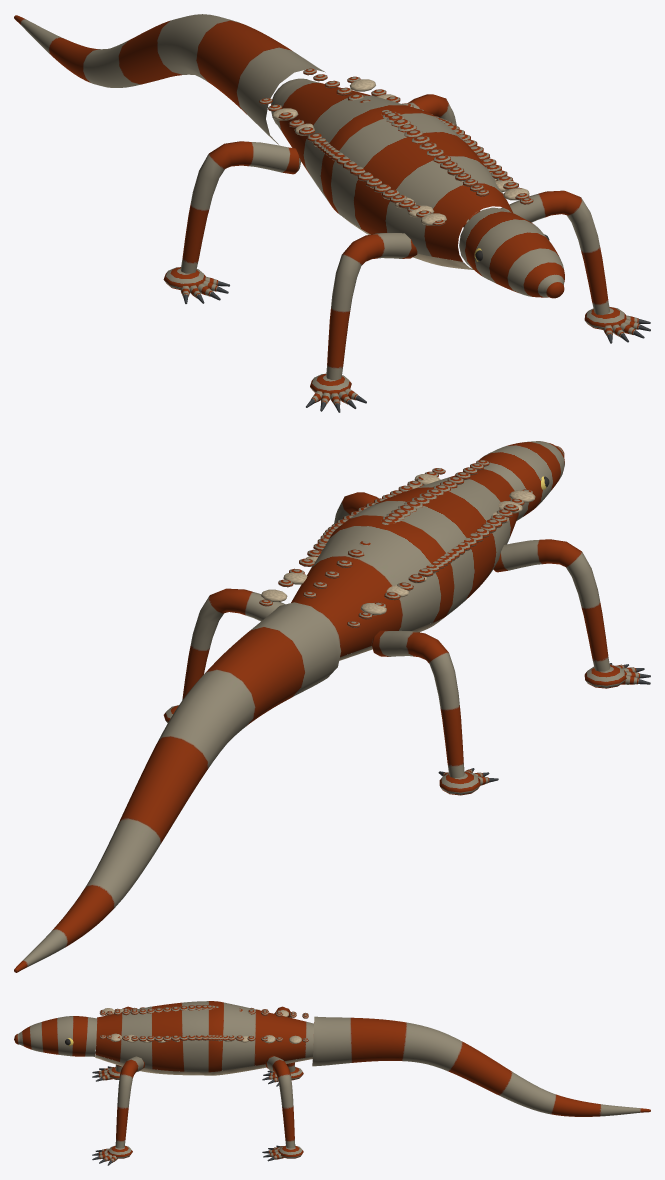
The model's file is birds-and-reptiles-hd-monitor-lizard-16b46064__28101.glb.
3 renders of one model, top to bottom at view 1: azimuth 30°, elevation 25°; view 2: azimuth 150°, elevation 25°; view 3: azimuth 270°, elevation 25°, orthographic. The views are drawn at different scales.
Visible parts, largest first — view 1: monitor-lizard; view 2: monitor-lizard; view 3: monitor-lizard.
Part boxes in pixels (x1,y1,x2,y2): monitor-lizard: (14,14,650,412); monitor-lizard: (14,441,650,972); monitor-lizard: (14,1001,650,1165).
Bounding box in the file's own units: 0.7276 × 0.3827 × 1.99.
5 materials, 3 textured.
